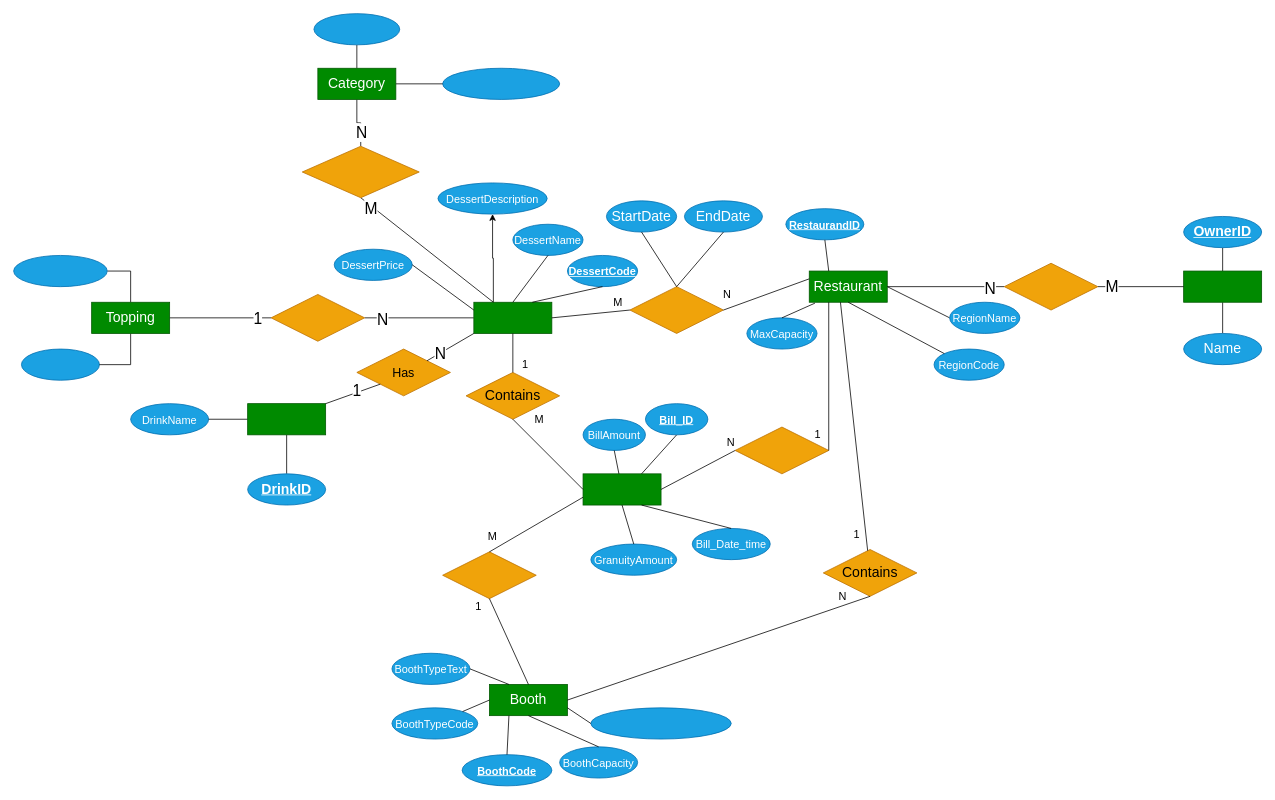
Some shapes in this 1275 by 800 pixel diagram are drawn without their labels. The shapes that lost their labels are listed below. From the top down, each one's centre as x and y in pixels, then its label:
the point at 356,29: CategoryID
the point at 501,83: DessertCategoryName
the point at 360,171: CategorizedBy
the point at 60,271: ToppingID
the point at 1050,286: OwnedBy
the point at 1222,286: Owner
the point at 317,317: ToppedBy
the point at 512,317: Dessert
the point at 676,309: Offer
the point at 60,364: ToppingName
the point at 286,419: Drink
the point at 781,450: Process
the point at 621,489: Bill
the point at 489,575: Generate
the point at 660,723: SmokingSectionIndicator
